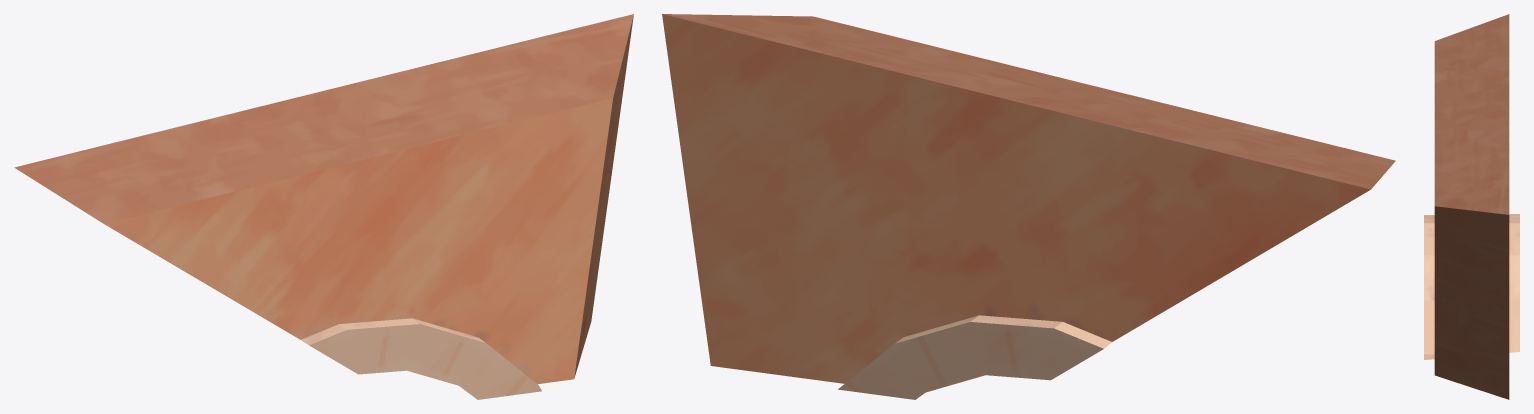
File: wall2_upper_door_s01.fbx
3 views of the same model, side by side, from view 1: azimuth 30°, elevation 25°; view 2: azimuth 150°, elevation 25°; view 3: azimuth 270°, elevation 25° (orthographic). The views are drawn at different scales.
Visible parts, largest first — view 1: wall2_upper_door_s01; view 2: wall2_upper_door_s01; view 3: wall2_upper_door_s01.
Part boxes in pixels (x1,y1,x2,y2): wall2_upper_door_s01: [14, 14, 633, 399]; wall2_upper_door_s01: [662, 14, 1395, 399]; wall2_upper_door_s01: [1424, 14, 1519, 399].
Size of the model in its own units: 6.4 by 2.94 by 1.28.
